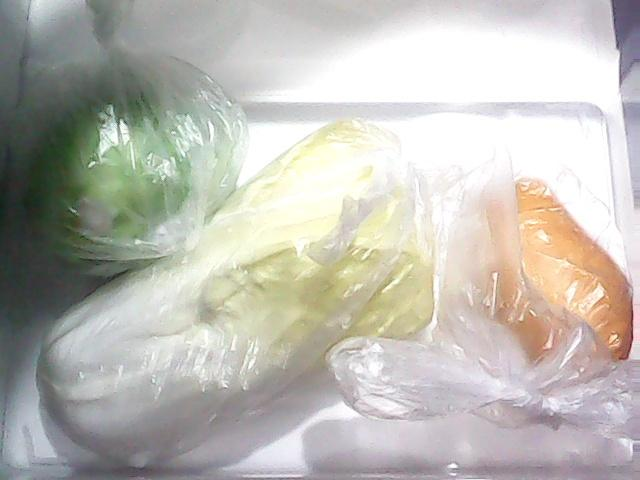cabbage: (21, 51, 255, 301)
mango: (444, 166, 638, 403)
napa cabbage: (36, 109, 430, 467)
